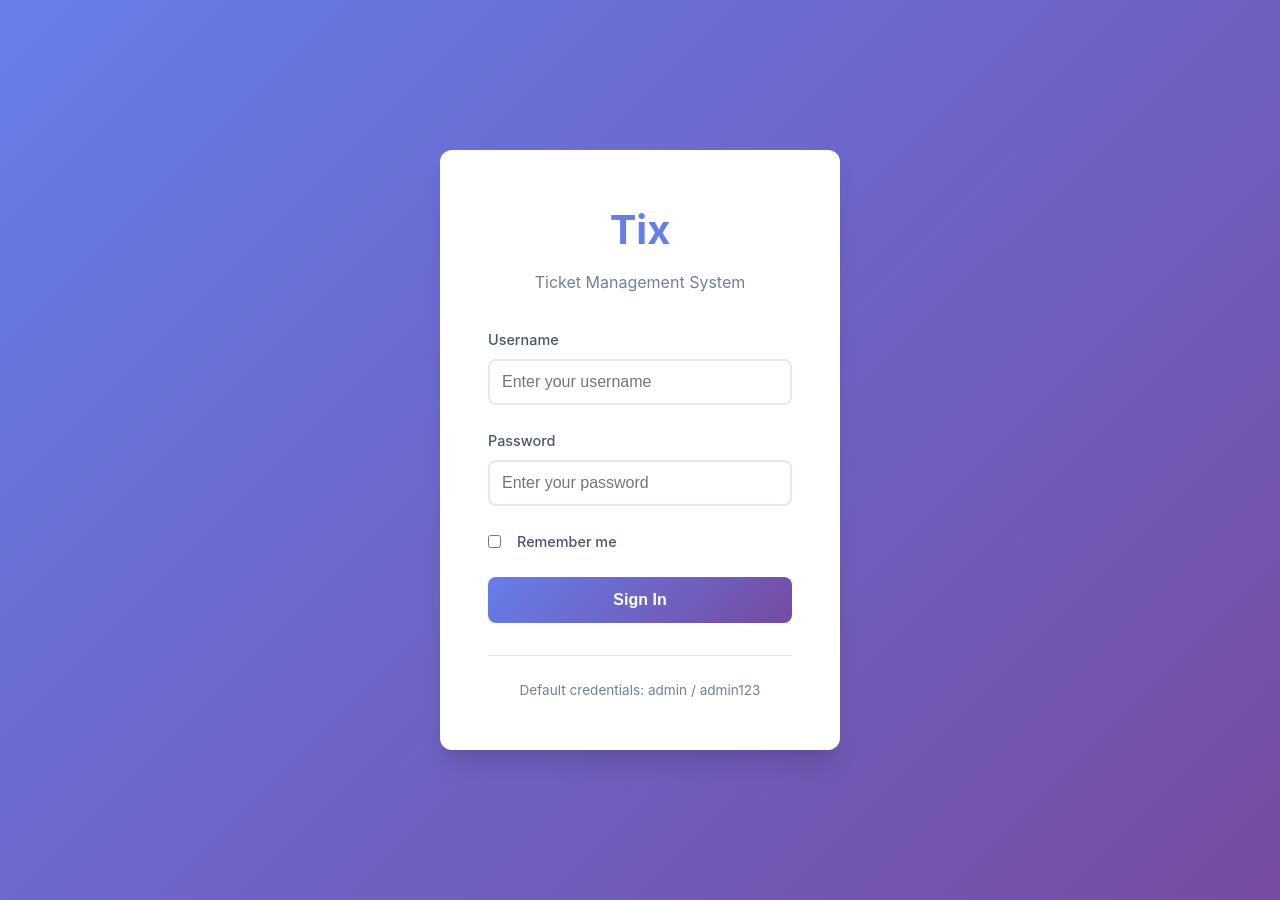
it: Tix App › successful login shows main application
This screenshot has width=1280, height=900.
Type "admin" into the field labelled "Username" at (640, 382), box [488,359,792,405]
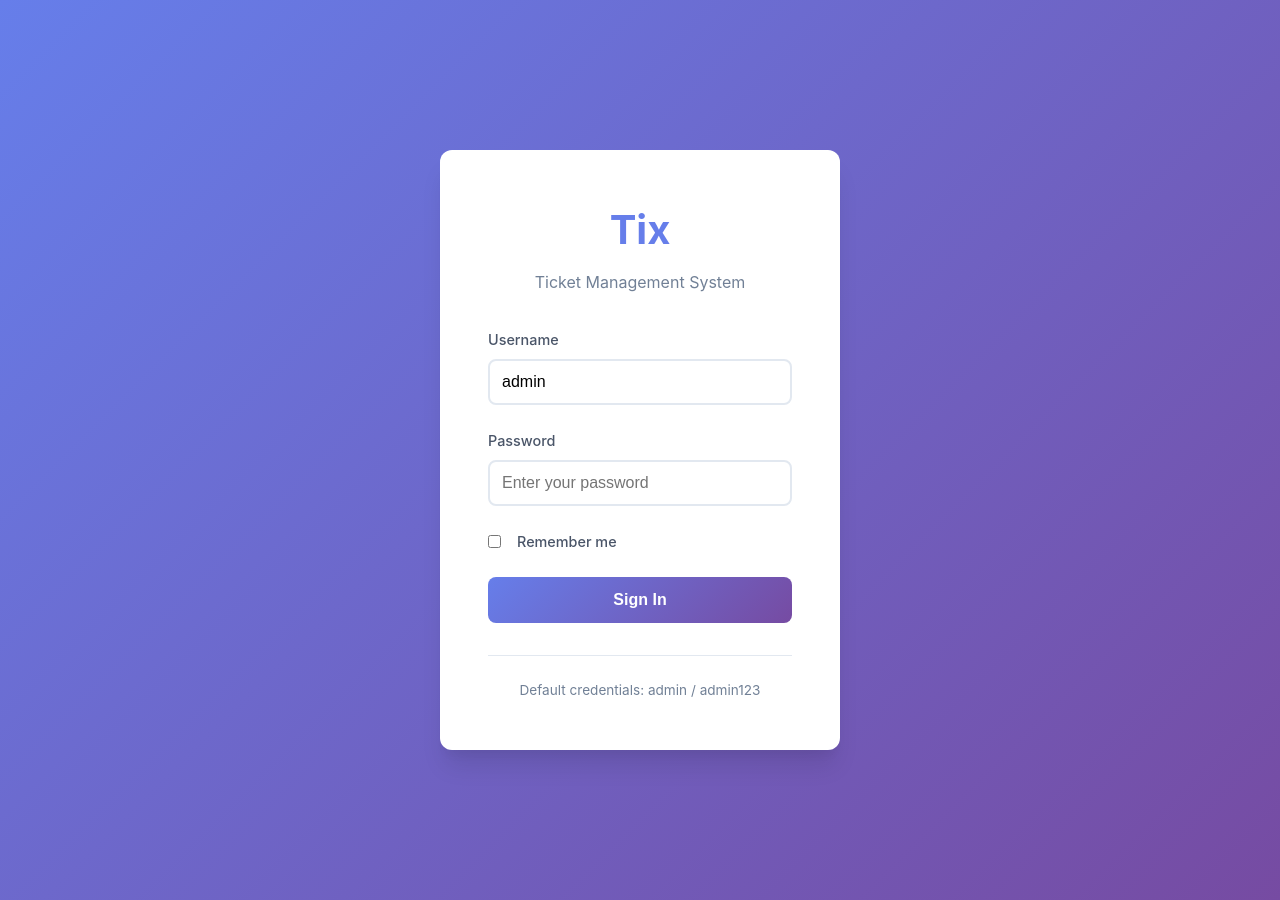
Type "admin123" into the password field labelled "Password" at (640, 483), box [488,460,792,506]
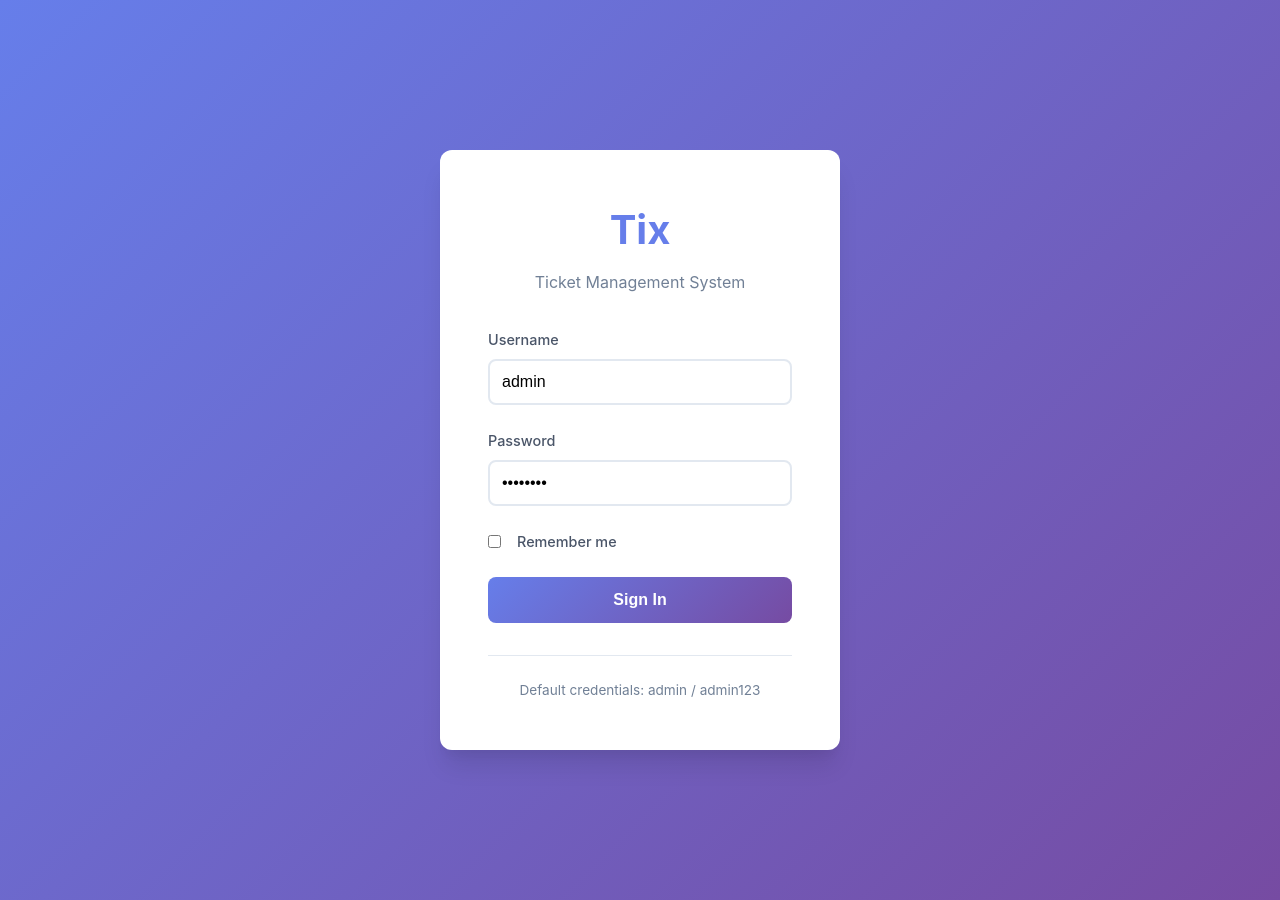
Click the button "Sign In" at (640, 600), box [488,577,792,623]
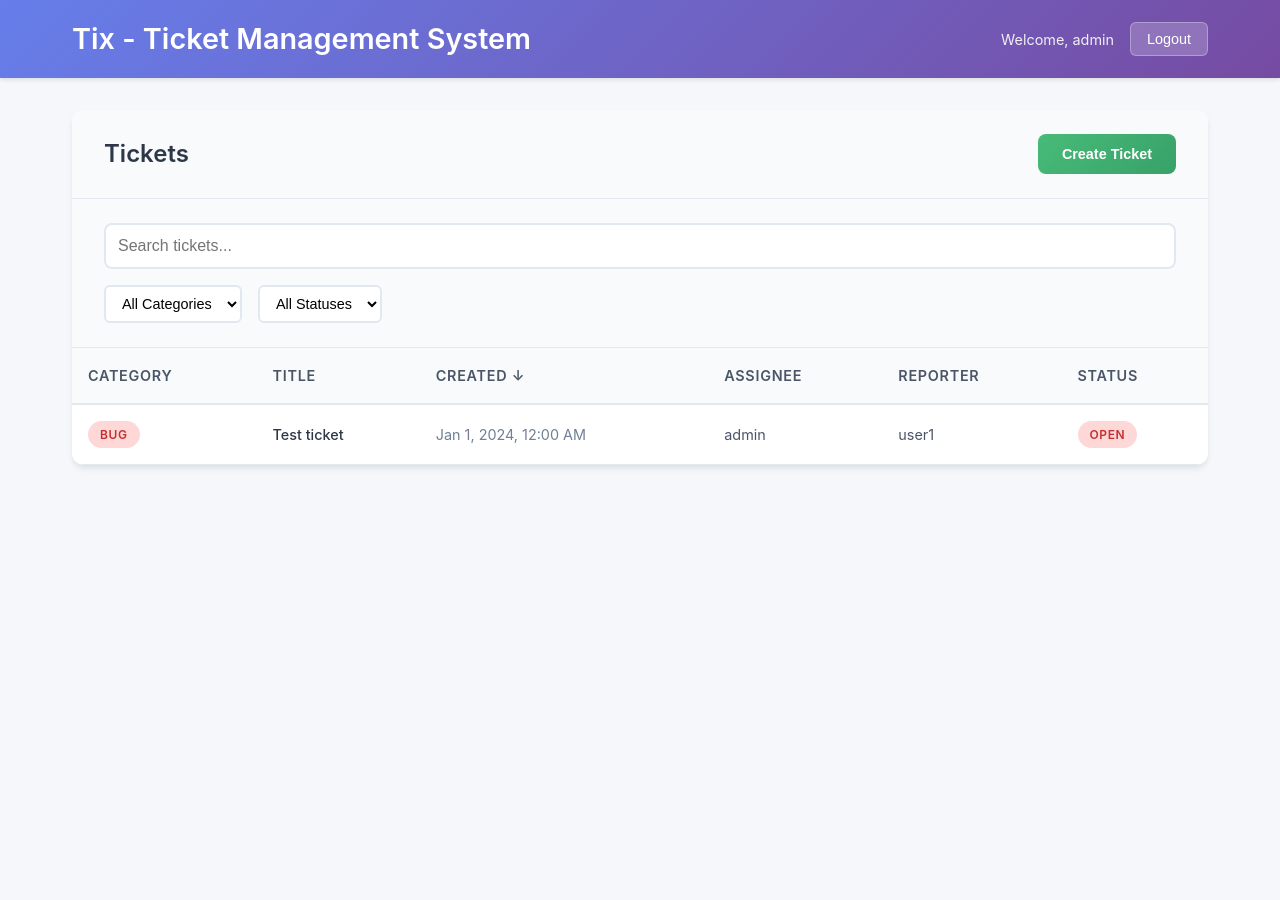
Check: the heading "Tix - Ticket Management System" is shown, box [72,16,531,62]
Check: the text "Welcome, admin" is shown, box [1001,28,1114,50]
Check: the heading "Tickets" is shown, box [104,135,189,173]
